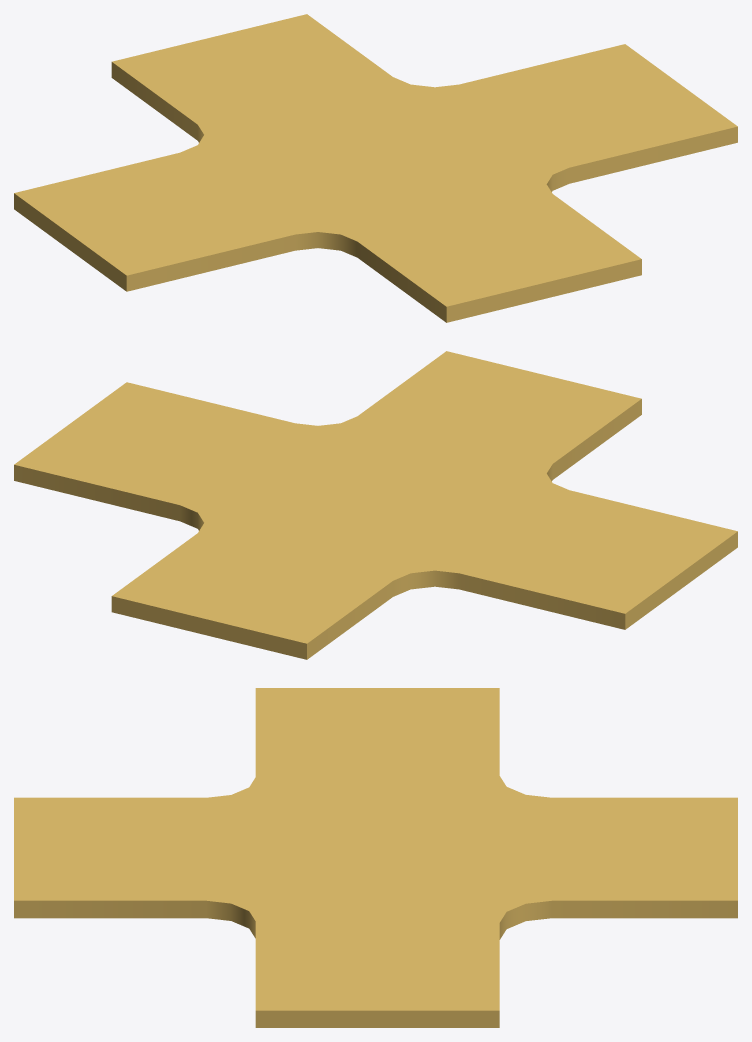
The model's file is intersection.fbx.
The picture shows the model from 3 angles, top to bottom: view 1: azimuth 30°, elevation 25°; view 2: azimuth 150°, elevation 25°; view 3: azimuth 270°, elevation 25°; orthographic projection. The views are drawn at different scales.
Parts seen in each view (by area): view 1: Cube.010; view 2: Cube.010; view 3: Cube.010.
Part boxes in pixels (box(x1,y1,x2,y2)): Cube.010: box(14, 14, 737, 322); Cube.010: box(14, 351, 737, 659); Cube.010: box(14, 688, 737, 1027).
Size of the model in its own units: 96.5 by 2.44 by 91.55.
